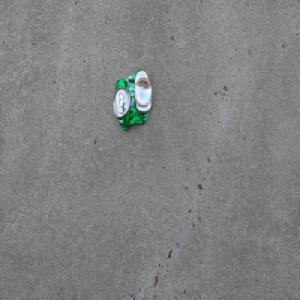SodaCan: (112, 68, 152, 131)
